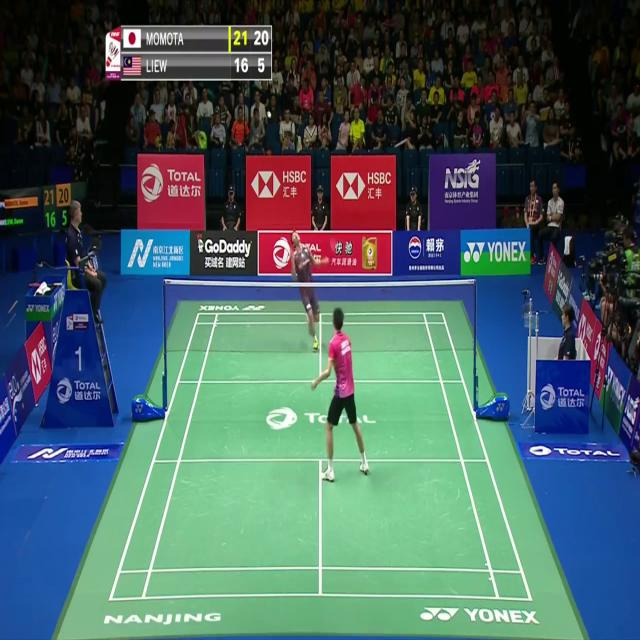Shuttlecock: (265, 105, 272, 117)
